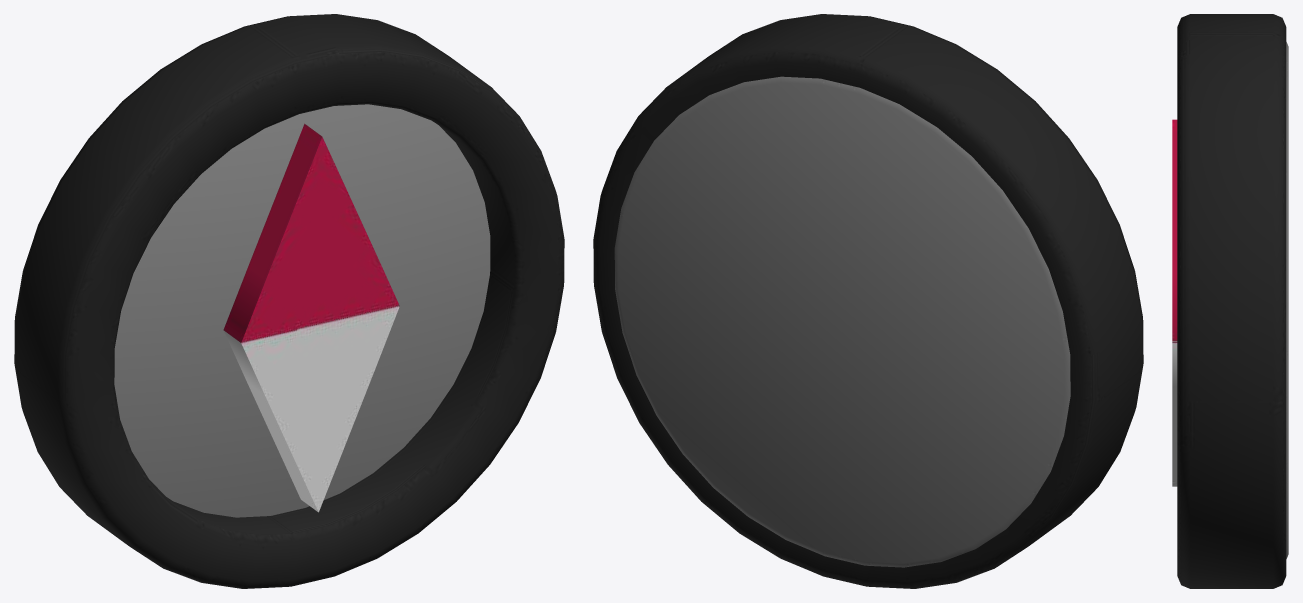
Rendered from compass.glb.
3 views of the same model, side by side, from view 1: azimuth 30°, elevation 25°; view 2: azimuth 150°, elevation 25°; view 3: azimuth 270°, elevation 25° (orthographic).
Parts seen in each view (by area): view 1: compas_4; view 2: compas_4; view 3: compas_4.
Boxes of the visible parts, x1,y1,x2,y2 form: compas_4: [14, 14, 564, 588]; compas_4: [593, 14, 1143, 588]; compas_4: [1172, 14, 1288, 588].
Bounding box in the file's own units: 10.78 × 10.78 × 2.18.
1 material, 1 textured.
